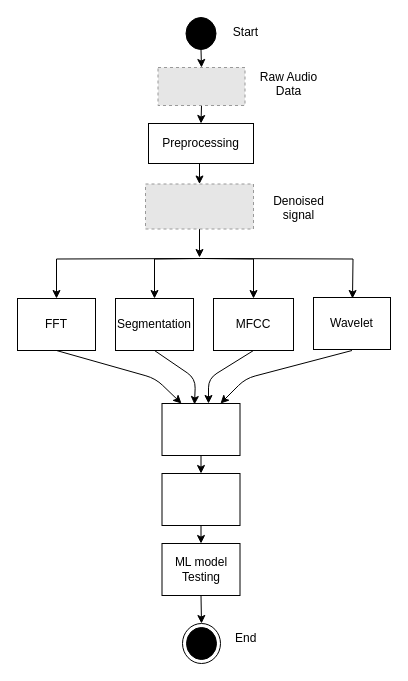
The diagram is 408 pixels wide and 681 high, and some of its shapes have lost their labels. Grey dashed boxes stand in for pictures. Each missing label, with the centre of its shape:
"Feature Generation" belongs at (x=200, y=429).
"ML model Training" belongs at (x=200, y=499).
